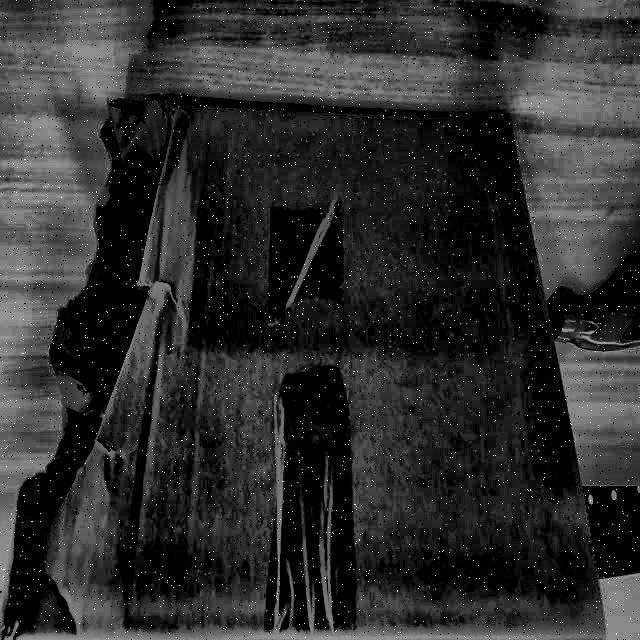box: (0, 84, 626, 640)
hole: (11, 91, 179, 640)
